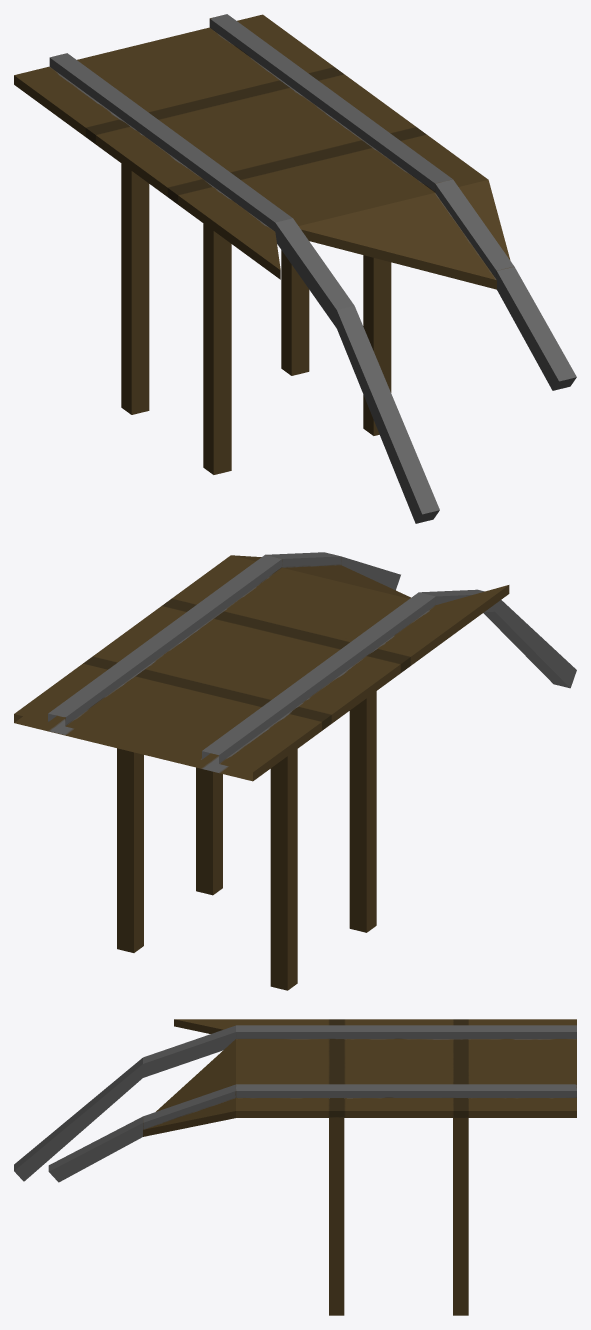
File: RollerCoaster_BrokenTrack_Piece_Redo_wTextures.fbx
3 views of the same model, one above another, from view 1: azimuth 30°, elevation 25°; view 2: azimuth 150°, elevation 25°; view 3: azimuth 270°, elevation 25° (orthographic). The views are drawn at different scales.
Visible parts, largest first — view 1: pCube20; view 2: pCube20; view 3: pCube20.
Part boxes in pixels (<box>): pCube20: <box>14,14,576,523</box>; pCube20: <box>14,552,576,990</box>; pCube20: <box>14,1019,576,1315</box>.
Size of the model in its own units: 14 by 16 by 36.32.
Materials: 1 (1 with a texture image).
